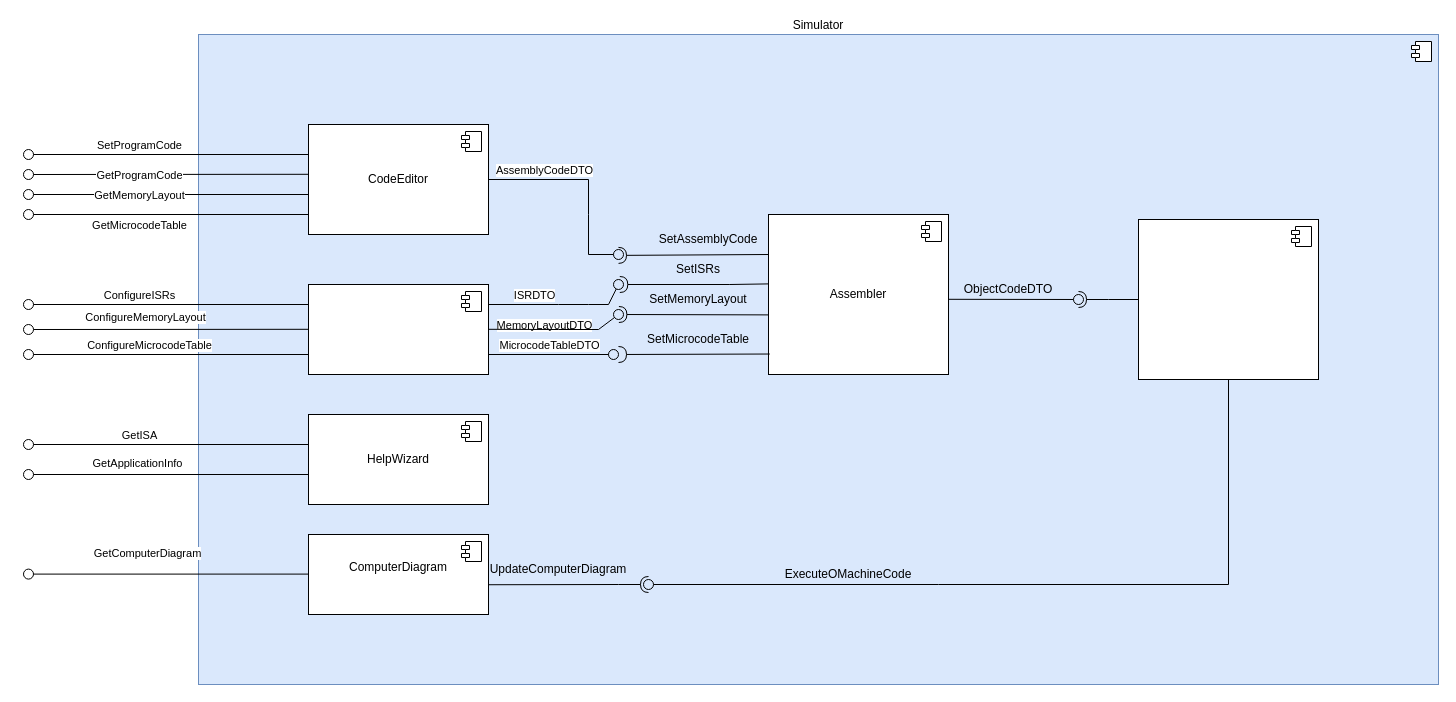
This 1456x702 diagram has some shape labels left out. The shapes that lost their labels are listed below. From the top down, each one's centre as x and y in pixels, then its label:
pixel 1228 299: CodeStateMachine
pixel 398 329: ComputerConfigurator
